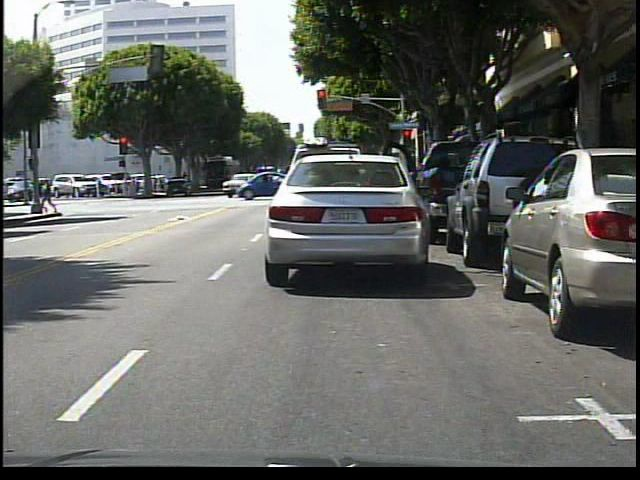person: (34, 180, 59, 218)
